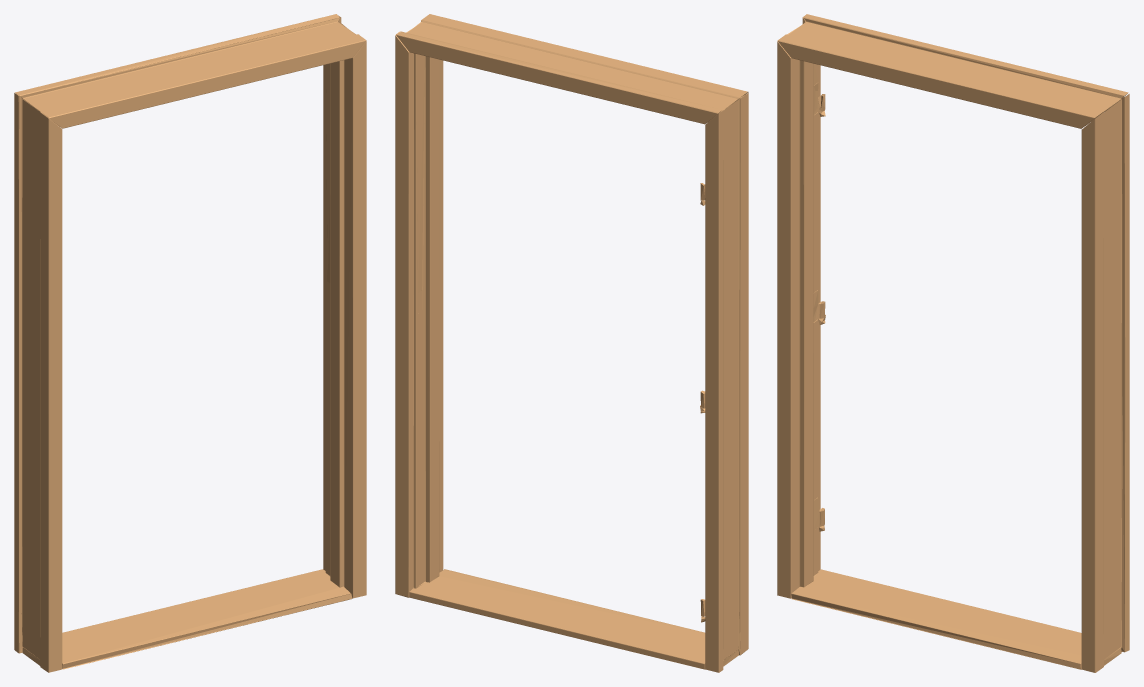
Rendered from SM_BackDoor_A_Frame.fbx.
The picture shows the model from 3 angles, left to right: view 1: azimuth 30°, elevation 25°; view 2: azimuth 150°, elevation 25°; view 3: azimuth 330°, elevation 25°; orthographic projection.
Parts seen in each view (by area): view 1: SM_BackDoor_A_Frame; view 2: SM_BackDoor_A_Frame; view 3: SM_BackDoor_A_Frame.
Boxes of the visible parts, left/top/right/bottom form: SM_BackDoor_A_Frame: left=14, top=14, right=366, bottom=672; SM_BackDoor_A_Frame: left=395, top=14, right=748, bottom=672; SM_BackDoor_A_Frame: left=777, top=14, right=1129, bottom=672.
Size of the model in its own units: 139 by 24.04 by 230.
